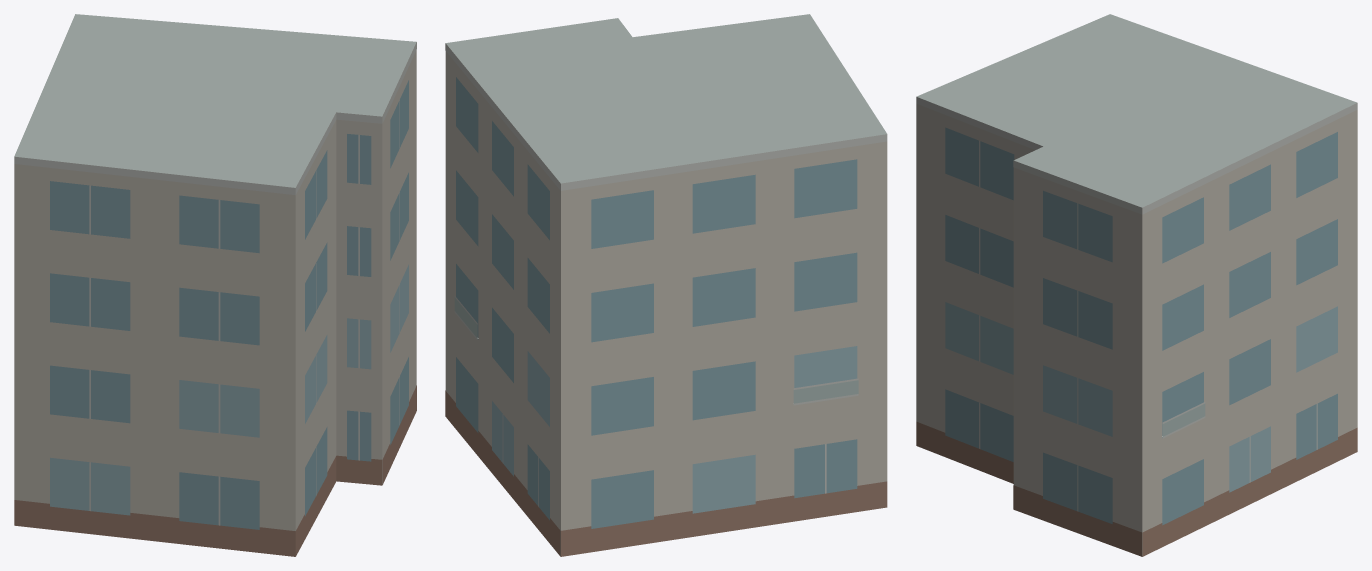
Rendered from survey-upis-32777515.glb.
3 views of the same model, side by side, from view 1: azimuth 30°, elevation 25°; view 2: azimuth 150°, elevation 25°; view 3: azimuth 270°, elevation 25° (orthographic). The views are drawn at different scales.
Visible parts, largest first — view 1: survey-upis-32777515.tmp; view 2: survey-upis-32777515.tmp; view 3: survey-upis-32777515.tmp.
Boxes of the visible parts, <box> form: survey-upis-32777515.tmp: <box>14,14,416,556</box>; survey-upis-32777515.tmp: <box>445,14,887,556</box>; survey-upis-32777515.tmp: <box>916,14,1357,556</box>.
Size of the model in its own units: 14.72 by 12.36 by 14.17.
